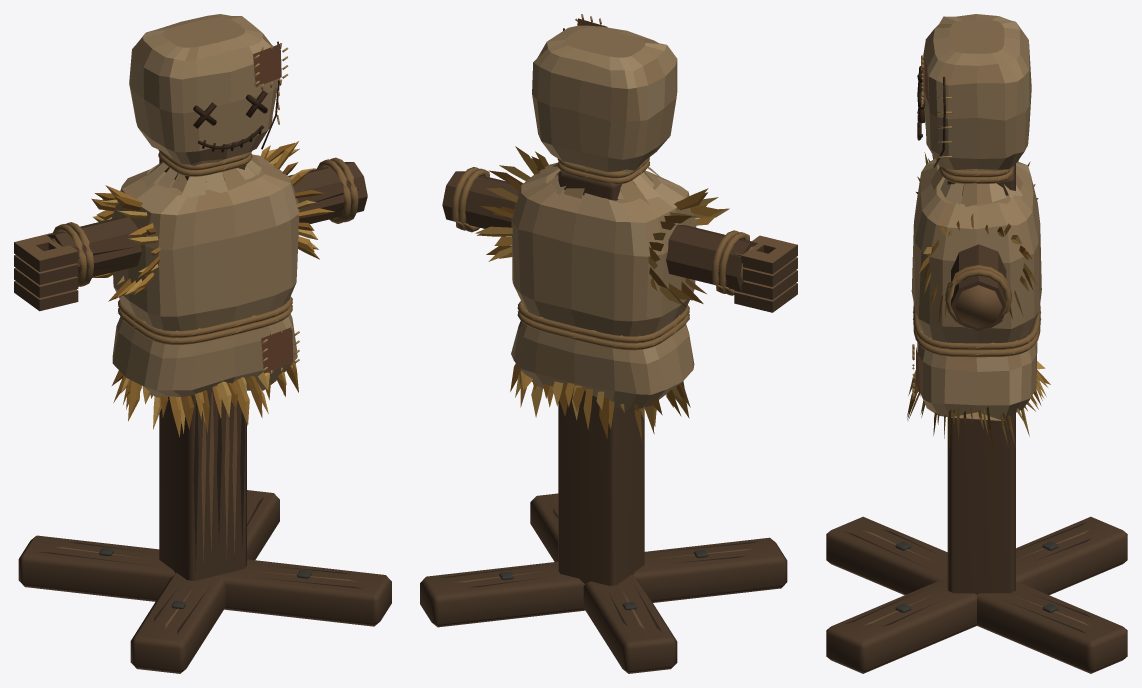
File: TrainingDummy.fbx
The picture shows the model from 3 angles, left to right: view 1: azimuth 30°, elevation 25°; view 2: azimuth 150°, elevation 25°; view 3: azimuth 270°, elevation 25°; orthographic projection. The views are drawn at different scales.
Visible parts, largest first — view 1: TrainingDummy; view 2: TrainingDummy; view 3: TrainingDummy.
Boxes of the visible parts, box(x1,y1,x2,y2) form: TrainingDummy: box(14, 14, 391, 673); TrainingDummy: box(420, 14, 797, 673); TrainingDummy: box(826, 14, 1127, 673).
Bounding box in the file's own units: 1.2 × 1.95 × 0.9263.
